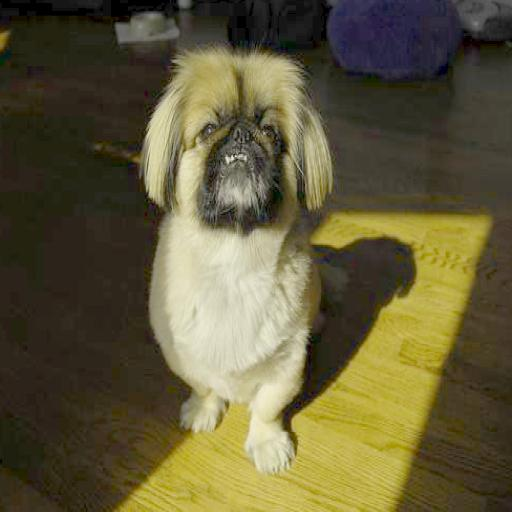dog_face: (140, 51, 330, 225)
